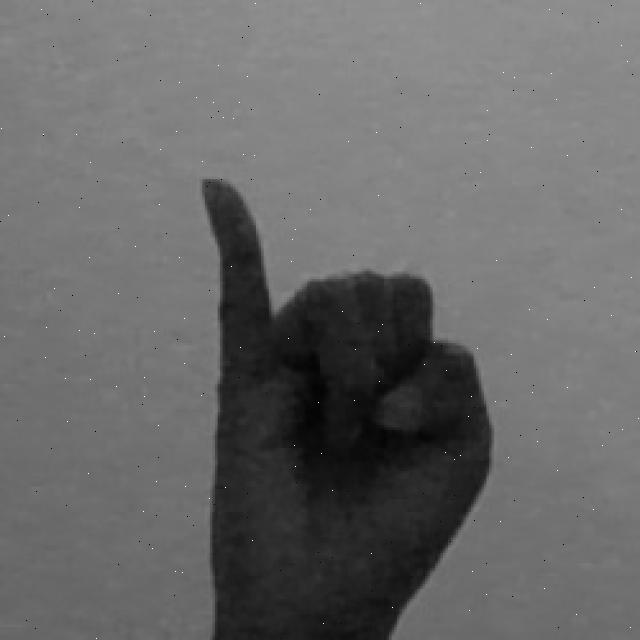I: (196, 174, 500, 640)
